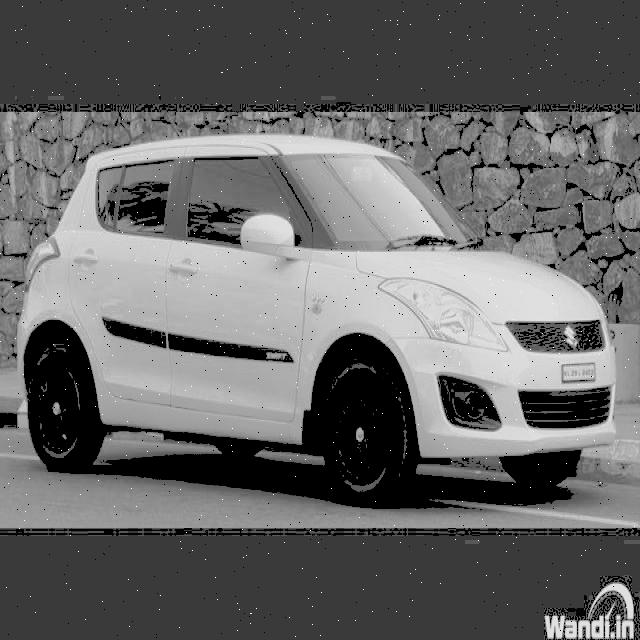Car: (13, 133, 630, 497)
